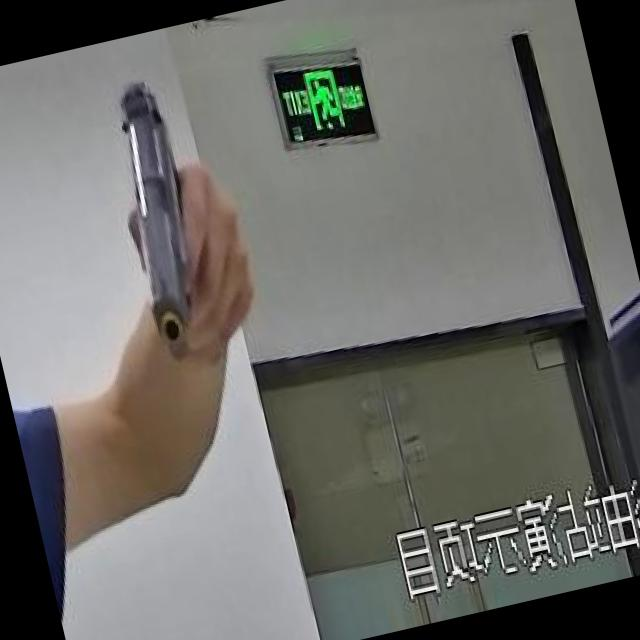Guns: (68, 46, 253, 380)
